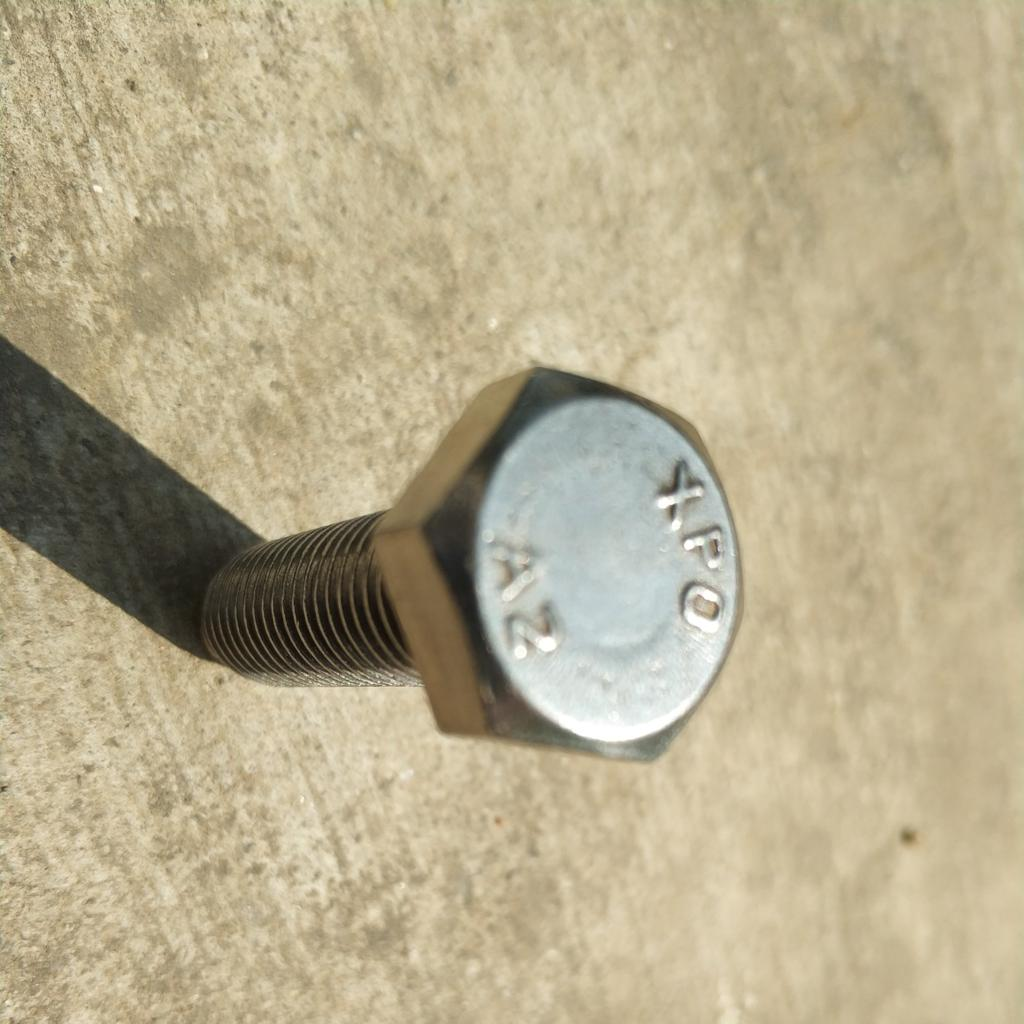screwtype2silver: (176, 353, 756, 794)
